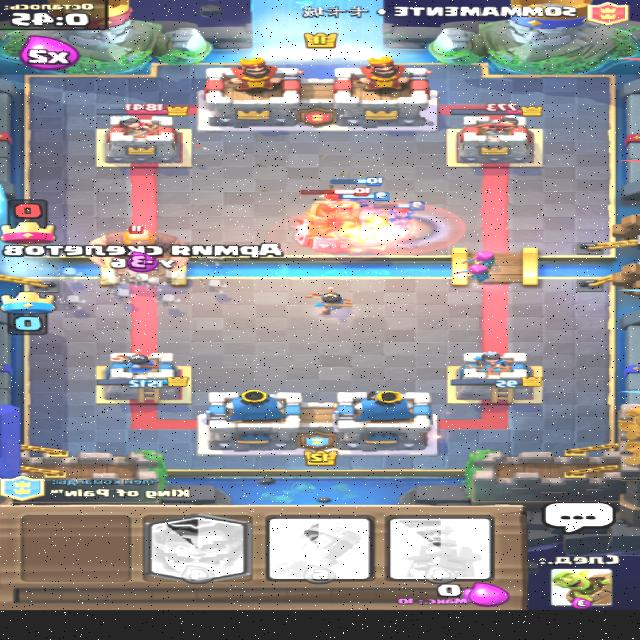Enemy-BombTower: (293, 186, 373, 254)
Enemy-Giant: (86, 225, 192, 271)
Player-Archer: (454, 264, 494, 283), (461, 250, 499, 264)
Player-Princess: (306, 286, 356, 316)
Player-Valkyrie: (377, 200, 426, 226)
